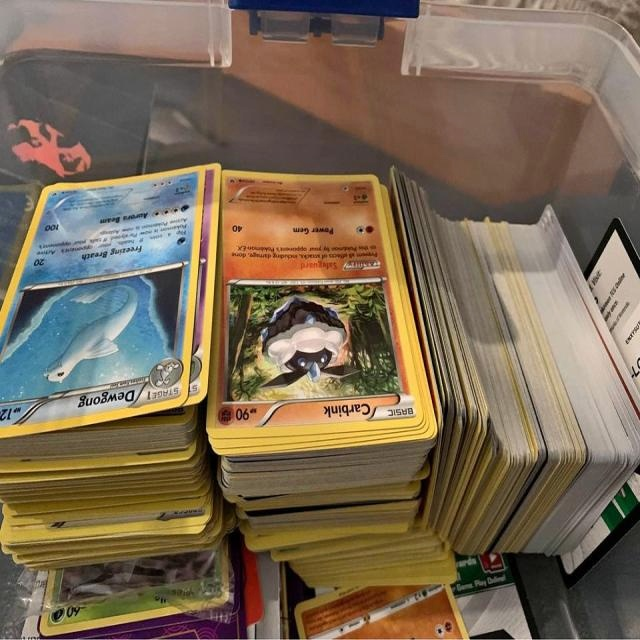card: (204, 168, 425, 440), (0, 162, 207, 438)
